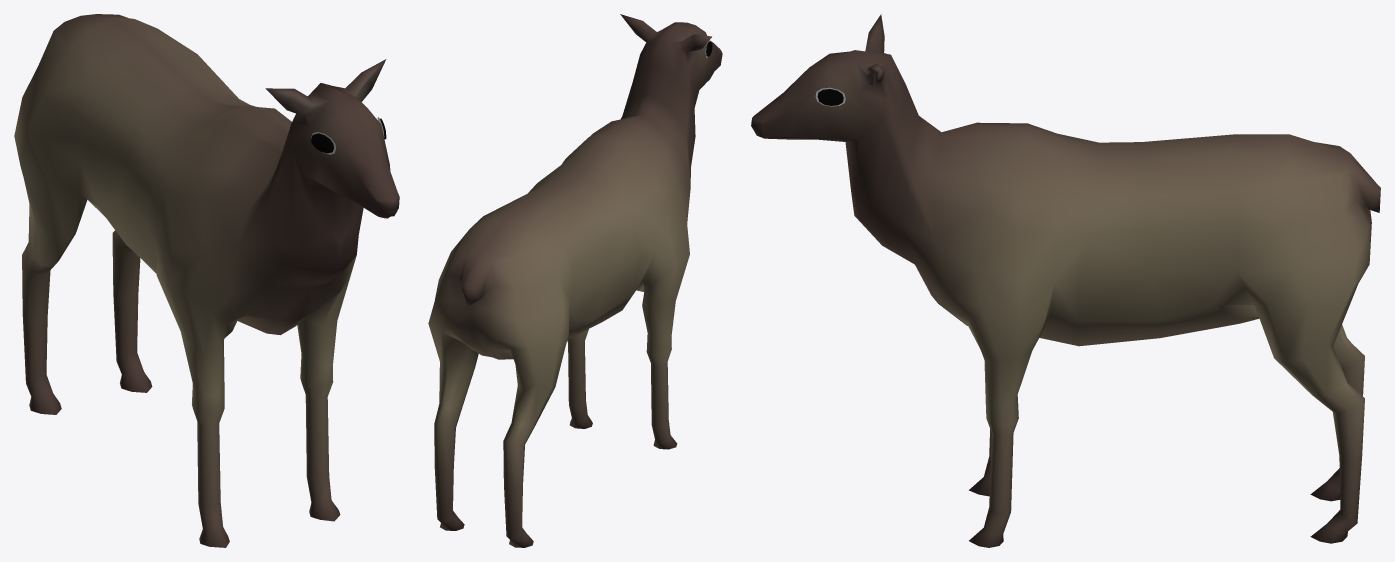
The picture shows the model from 3 angles, left to right: view 1: azimuth 30°, elevation 25°; view 2: azimuth 150°, elevation 25°; view 3: azimuth 270°, elevation 25°; orthographic projection. The views are drawn at different scales.
Visible parts, largest first — view 1: alt609; view 2: alt609; view 3: alt609.
Boxes of the visible parts, <box> form: alt609: <box>14,14,399,547</box>; alt609: <box>428,14,722,547</box>; alt609: <box>751,14,1380,547</box>.
Size of the model in its own units: 0.1495 by 0.4146 by 0.5.
